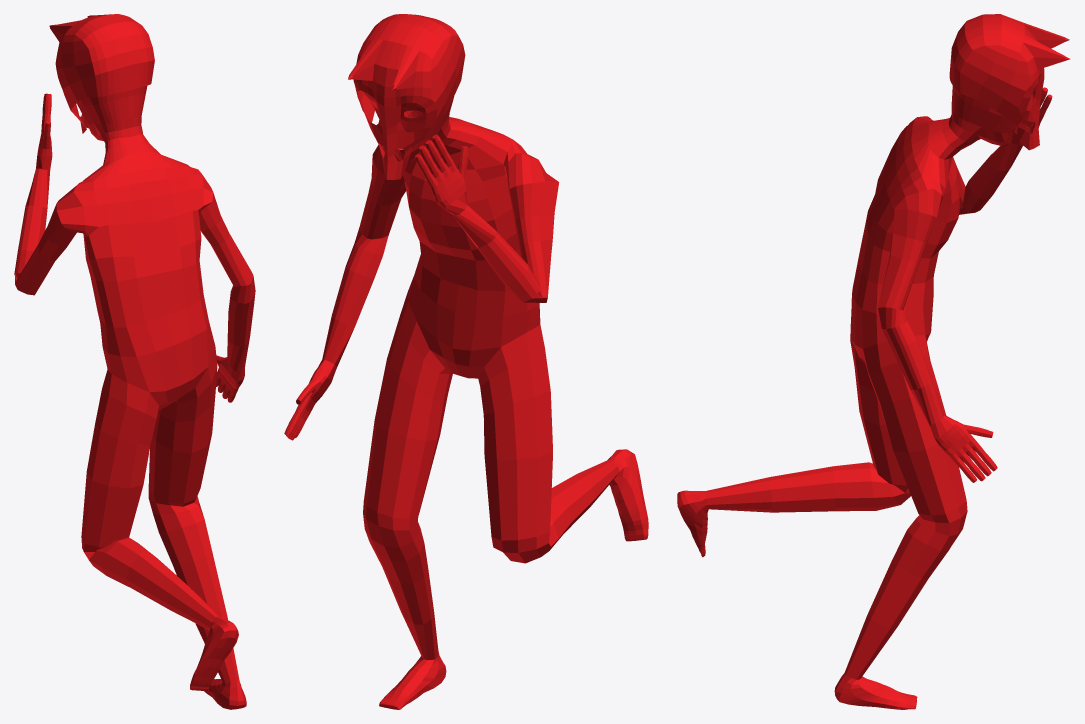
The model's file is correrE_000104.obj.
3 renders of one model, left to right at view 1: azimuth 30°, elevation 25°; view 2: azimuth 150°, elevation 25°; view 3: azimuth 270°, elevation 25°, orthographic. The views are drawn at different scales.
Visible parts, largest first — view 1: Plane.002_Plane.001; view 2: Plane.002_Plane.001; view 3: Plane.002_Plane.001.
Part boxes in pixels (box(x1,y1,x2,y2)): Plane.002_Plane.001: box(14, 14, 255, 709); Plane.002_Plane.001: box(284, 14, 648, 709); Plane.002_Plane.001: box(677, 14, 1069, 709).
Size of the model in its own units: 2.33 by 6.54 by 3.56.
